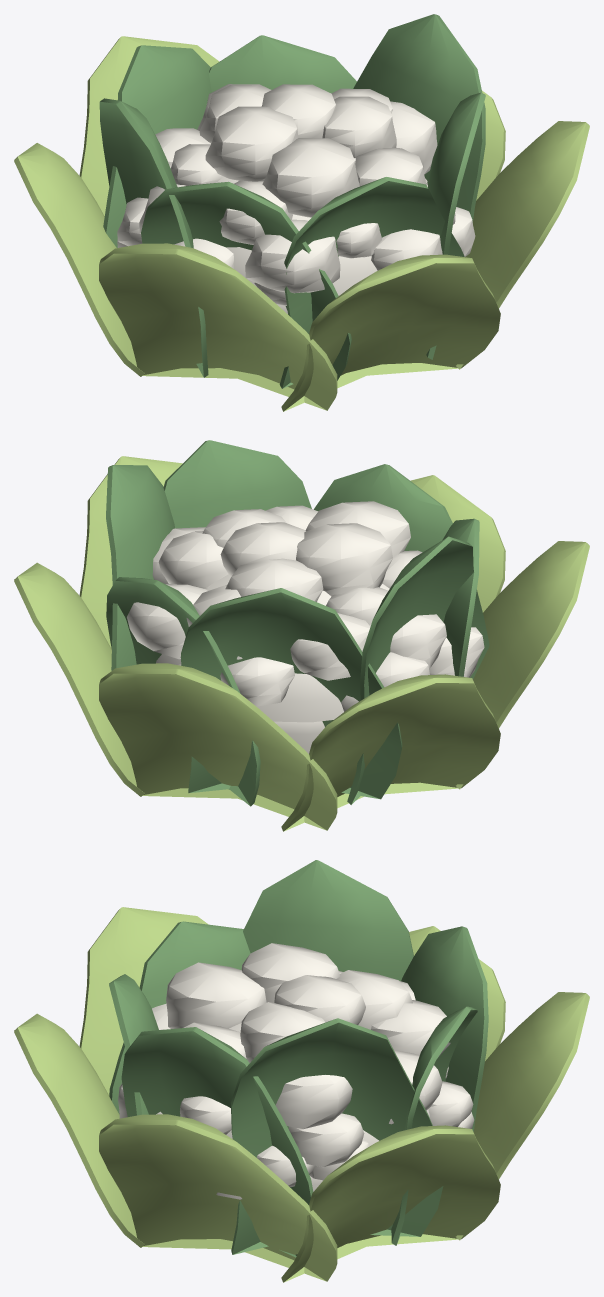
The model's file is fresh-produce-and-groceries-cauliflower-fff2ec29__24363.glb.
The picture shows the model from 3 angles, top to bottom: view 1: azimuth 30°, elevation 25°; view 2: azimuth 150°, elevation 25°; view 3: azimuth 270°, elevation 25°; orthographic projection.
Visible parts, largest first — view 1: cauliflower; view 2: cauliflower; view 3: cauliflower.
Boxes of the visible parts, left/top/right/bottom form: cauliflower: left=14, top=14, right=589, bottom=411; cauliflower: left=14, top=440, right=589, bottom=831; cauliflower: left=14, top=860, right=589, bottom=1282.
Bounding box in the file's own units: 0.2417 × 0.1355 × 0.2571.
